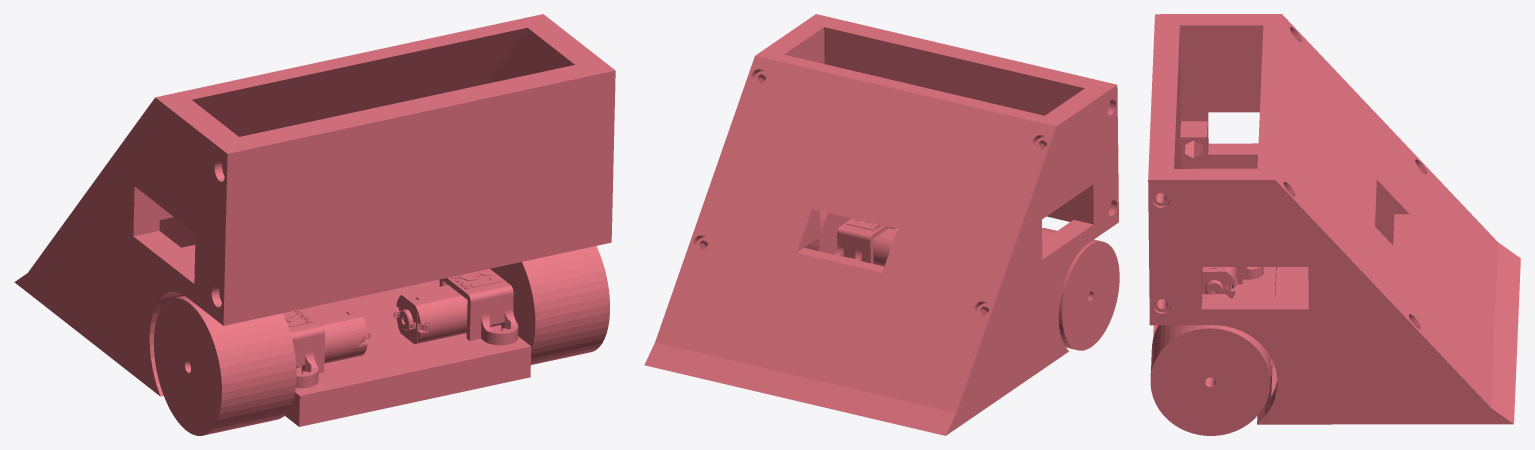
File: robot.glb
3 renders of one model, left to right at view 1: azimuth 30°, elevation 25°; view 2: azimuth 150°, elevation 25°; view 3: azimuth 270°, elevation 25°, orthographic. The views are drawn at different scales.
Visible parts, largest first — view 1: Robot2; view 2: Robot2; view 3: Robot2.
Boxes of the visible parts, x1,y1,x2,y2 form: Robot2: (14, 14, 615, 435); Robot2: (644, 14, 1119, 435); Robot2: (1148, 14, 1520, 435).
Bounding box in the file's own units: 0.1059 × 0.0806 × 0.1026.
